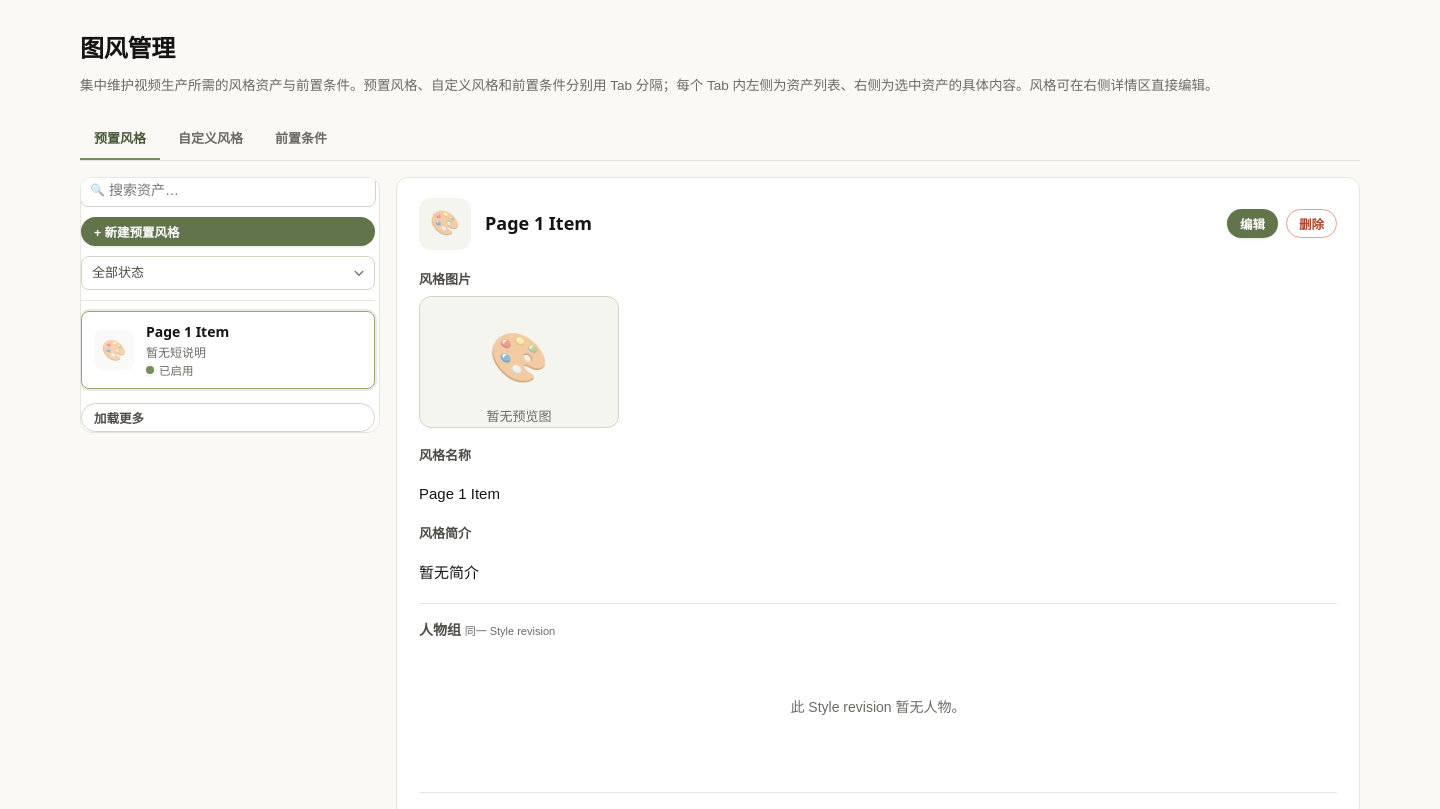
Test case: race condition: load-more vs reset › load-more old page cannot pollute reset list after filter change
This screenshot has width=1440, height=809.
Expected: the 1st text "Page 1 Item" is shown, [146,322,229,341]
Click load more
Click the button "加载更多". click: point(119, 418)
box: [81,403,375,432]
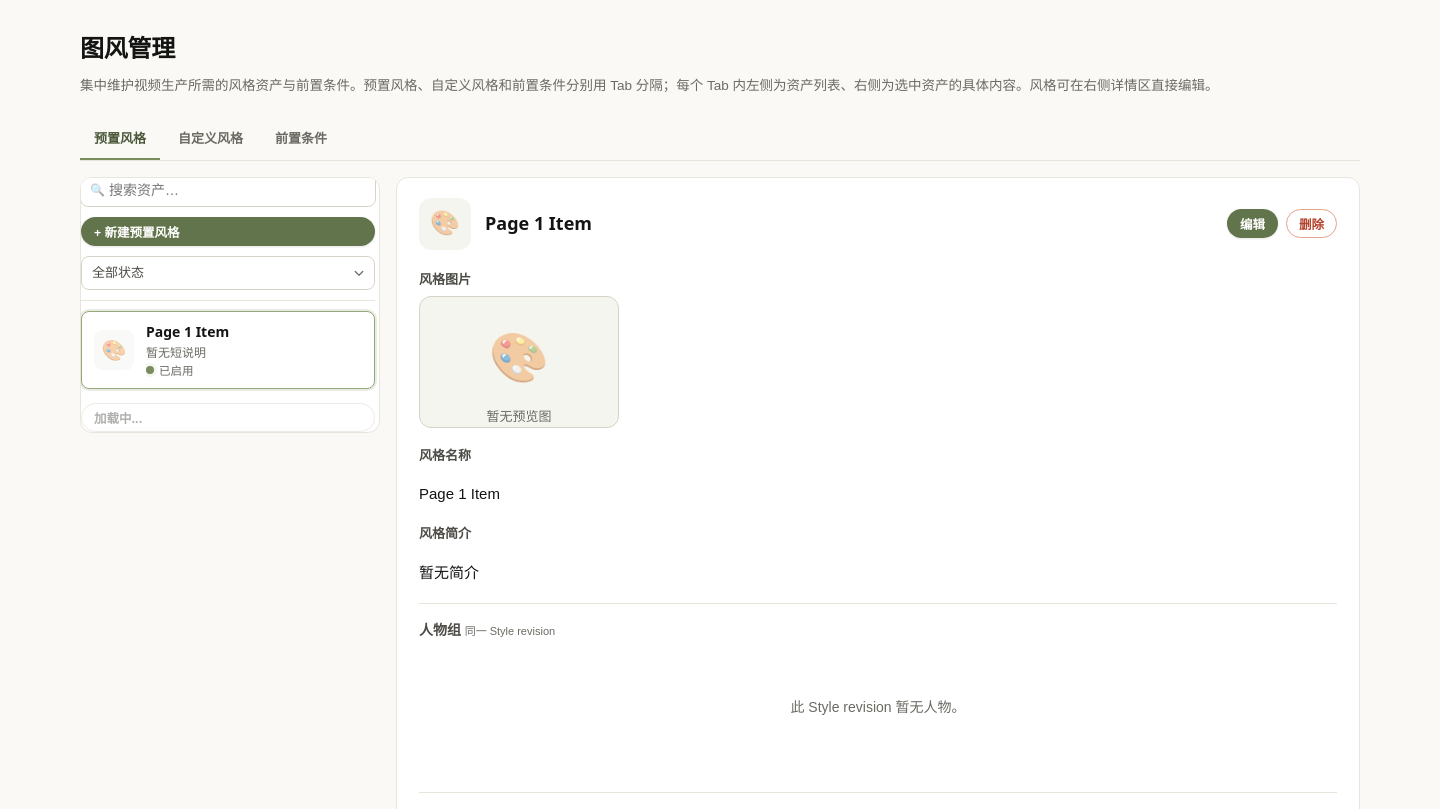
Change filter before page 2 resolves
Select "已启用" in the dropdown named "状态筛选". click: point(228, 273)
box: [81,256,375,290]
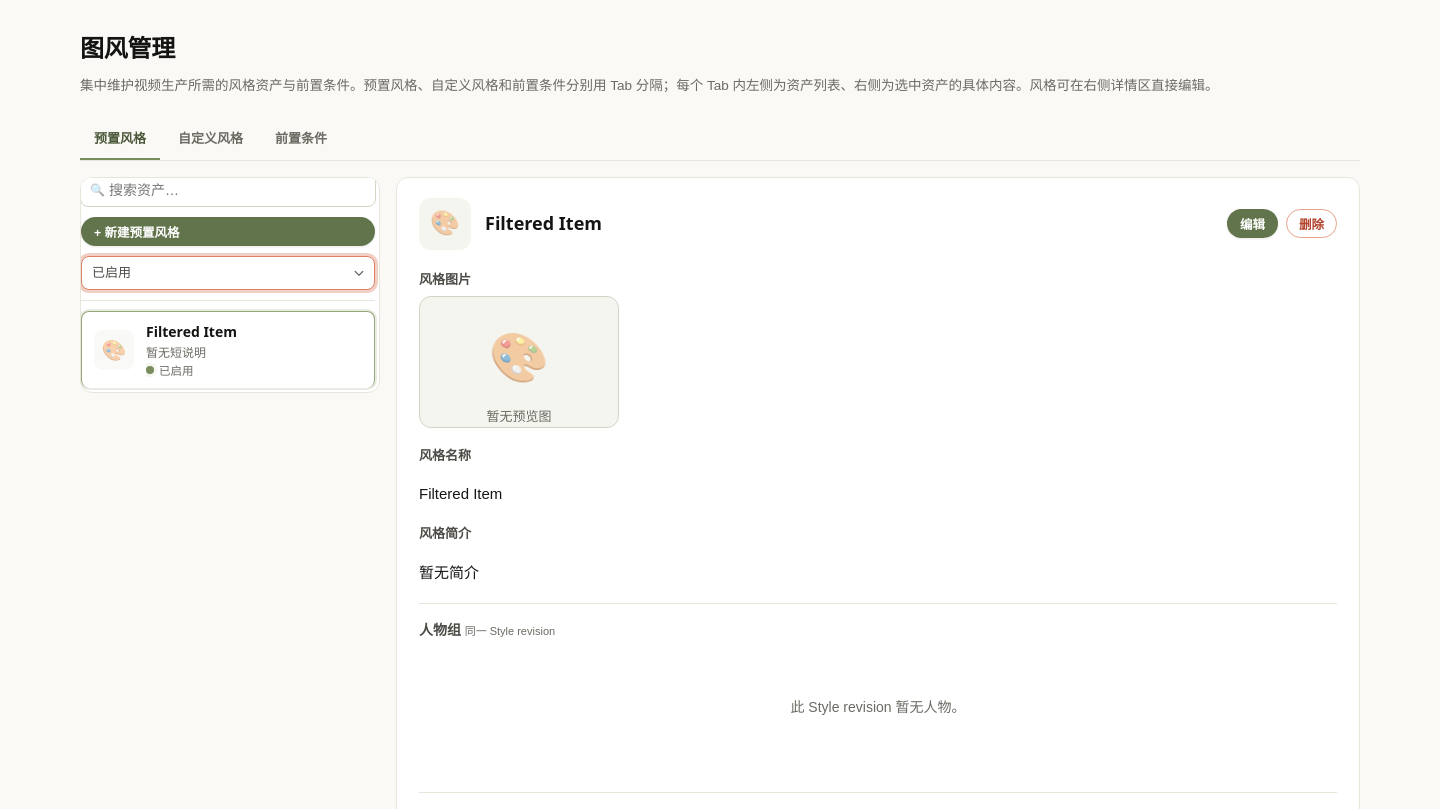
Expected: the 1st text "Filtered Item" is shown, [146,322,237,341]
Expected: the button "Page 1 Item" is gone
